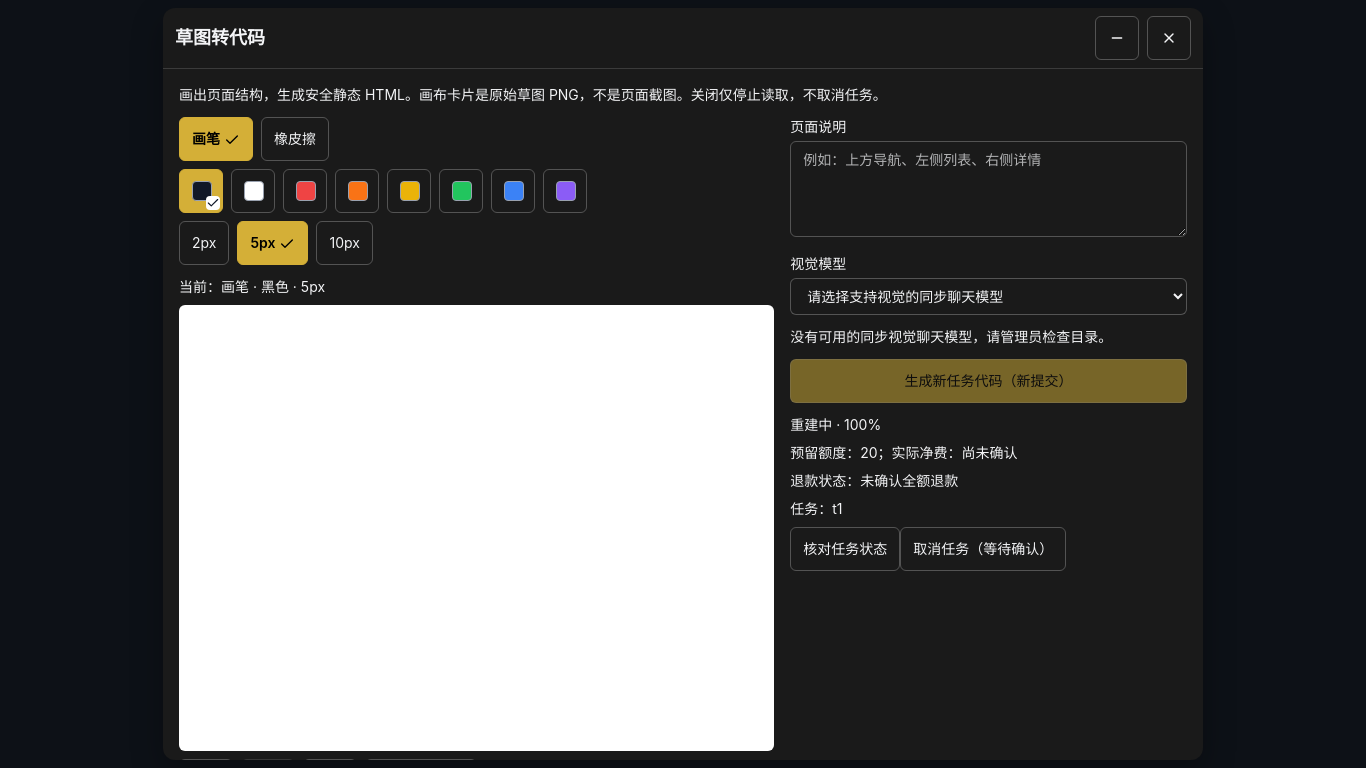
sketch drawer behavior › cancellation remains pending confirmation on 503, preserves drawing, and never asserts refund
Expected: the text "重建中 · 100%" is shown, [790,416,881,433]
Click the button "取消任务（等待确认）": (983, 549) [900,527,1066,571]
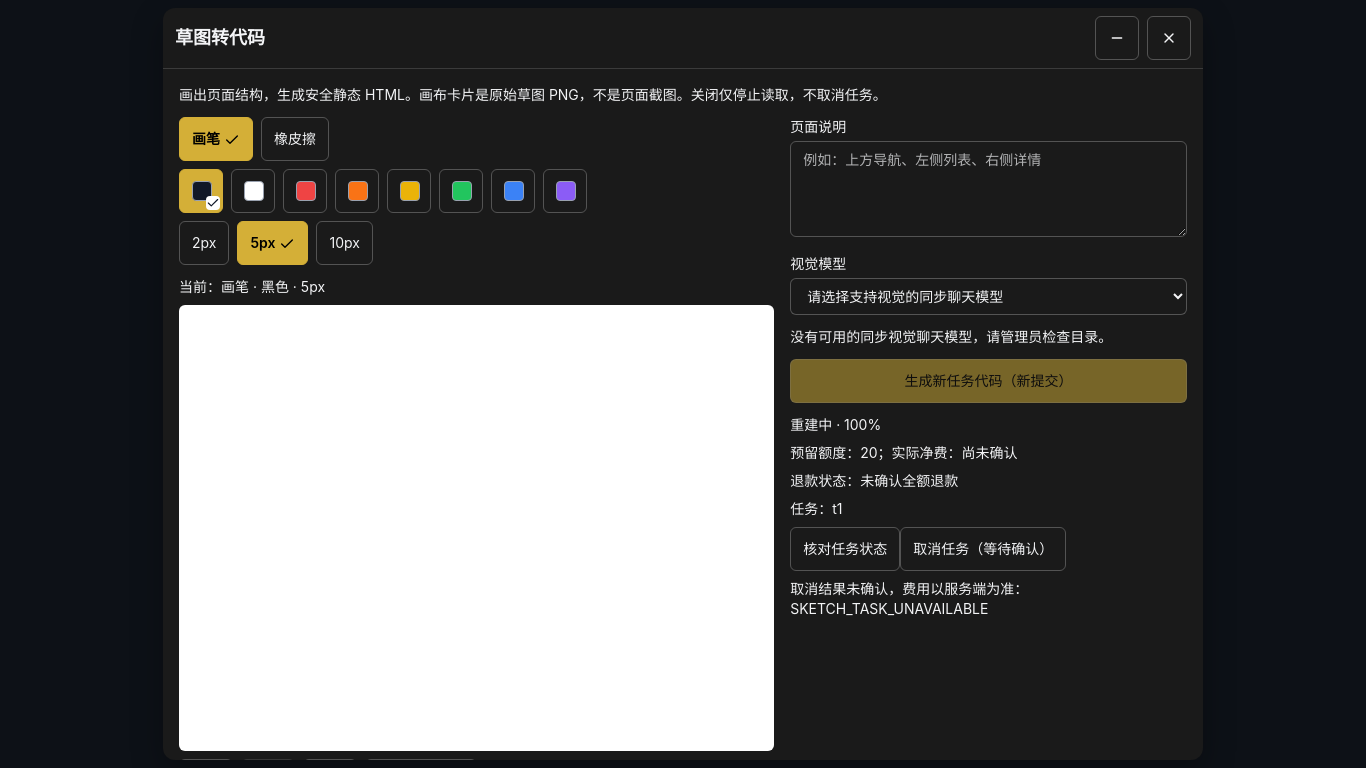
Now the text "取消结果未确认，费用以服务端为准：SKETCH_TASK_UNAVAILABLE" is shown, box [790,580,1028,617]
